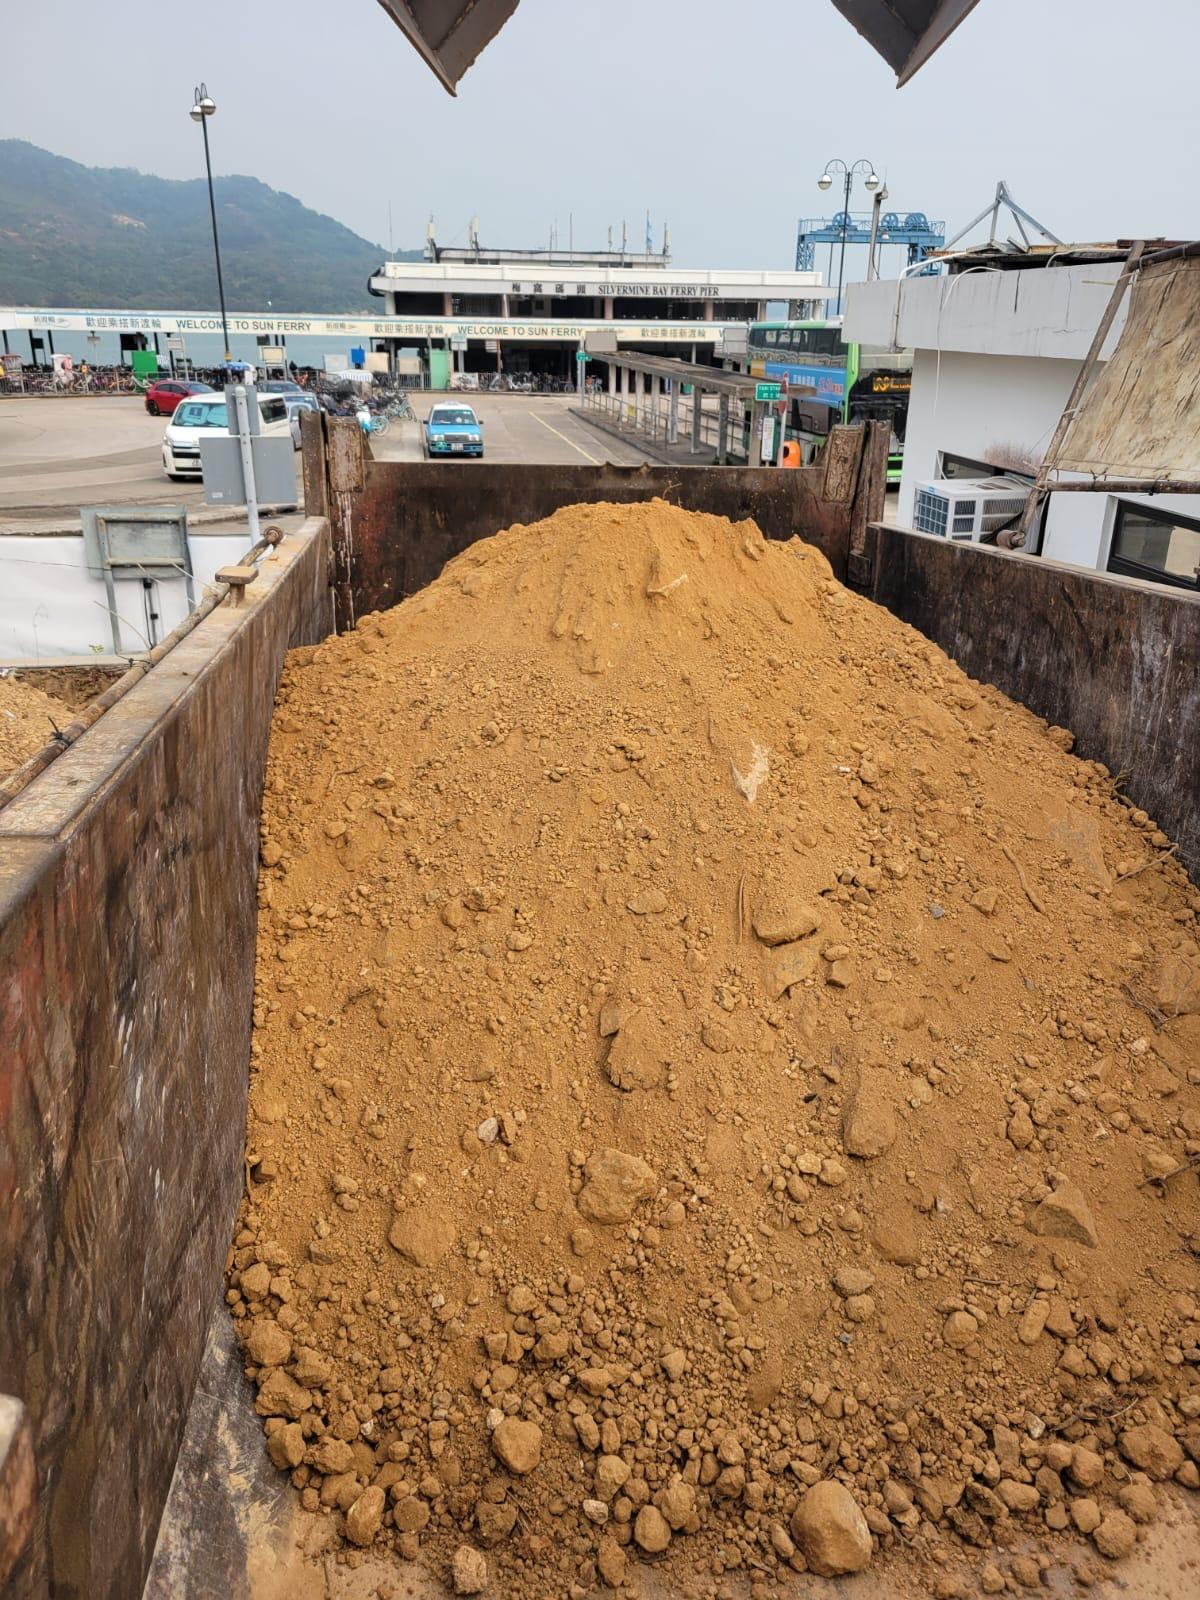dry: (245, 508, 1200, 1519)
